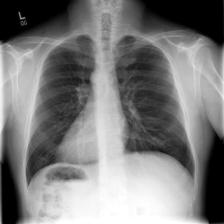normal: (18, 31, 198, 193)
